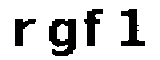1: (117, 8, 146, 49)
f: (82, 5, 107, 49)
g: (47, 16, 78, 60)
r: (12, 16, 38, 48)
